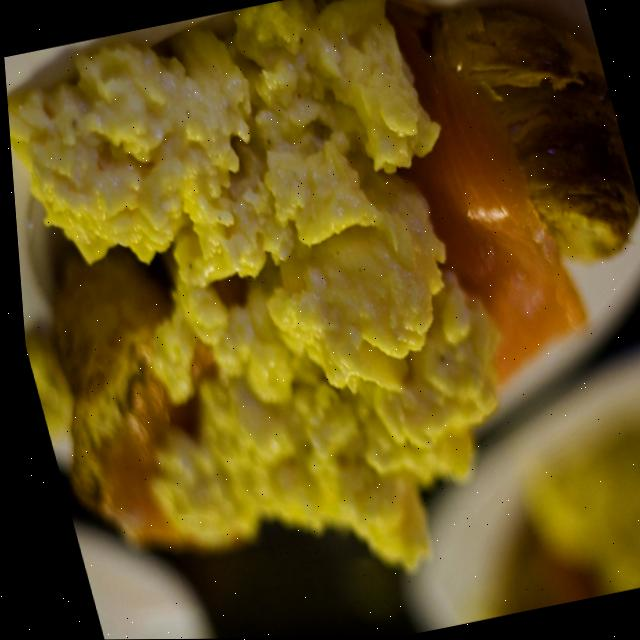鸡蛋料理: (0, 0, 629, 639)
